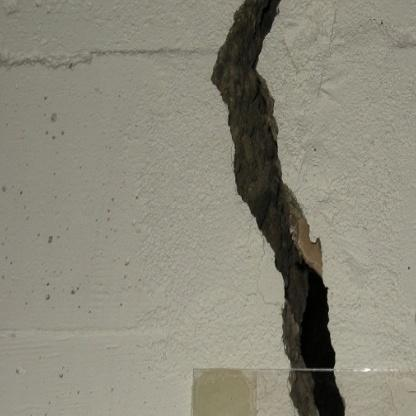Cracks: (207, 0, 352, 416)
